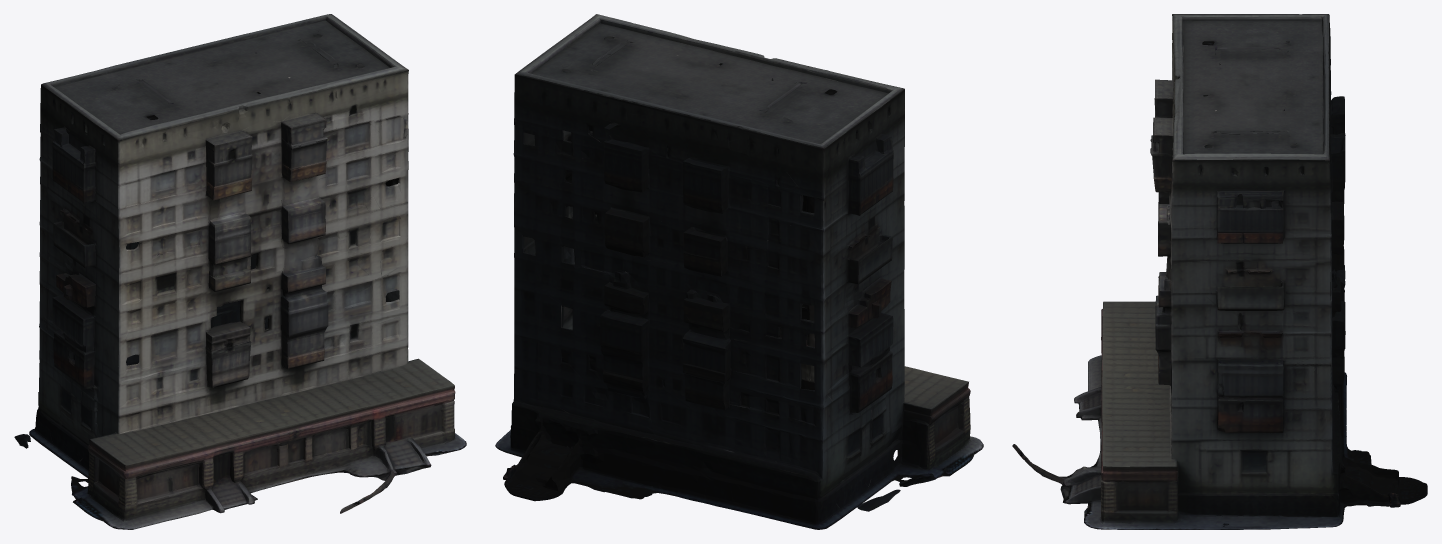
File: SSSR_House_4.fbx
The picture shows the model from 3 angles, left to right: view 1: azimuth 30°, elevation 25°; view 2: azimuth 150°, elevation 25°; view 3: azimuth 270°, elevation 25°; orthographic projection. The views are drawn at different scales.
Parts seen in each view (by area): view 1: world.003; view 2: world.003; view 3: world.003.
Boxes of the visible parts, box(x1,y1,x2,y2) form: world.003: box(14, 14, 466, 529); world.003: box(495, 14, 983, 529); world.003: box(1012, 14, 1427, 529).
Size of the model in its own units: 0.924 by 0.9084 by 0.8838.
